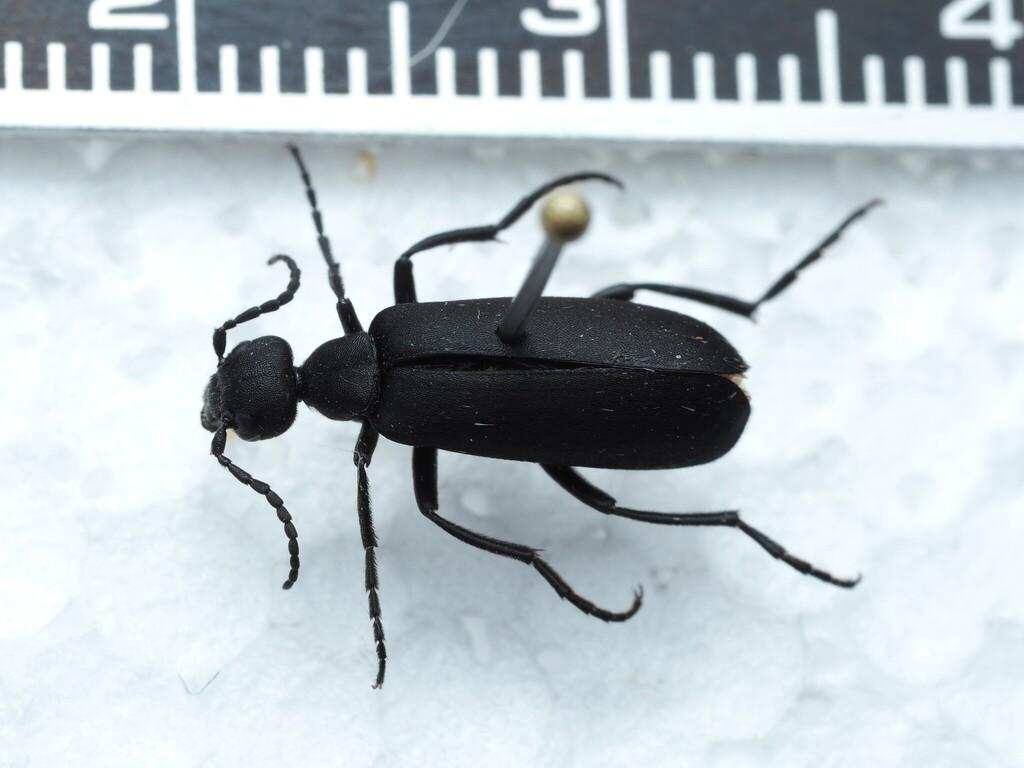blister_beetle: (85, 102, 910, 734)
